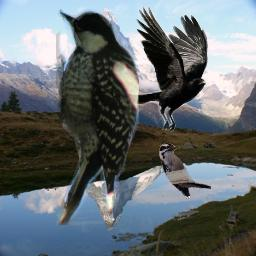Crow: (124, 6, 210, 135)
Woodpecker: (56, 9, 141, 225), (159, 143, 211, 199)
